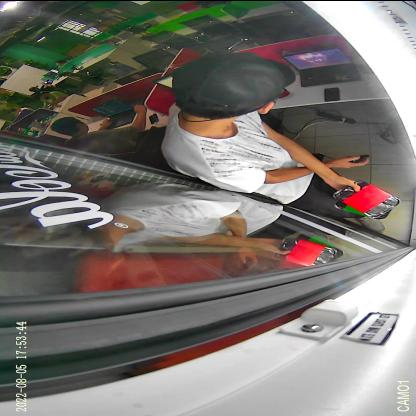green: (334, 198, 392, 219)
red: (333, 180, 400, 216)
